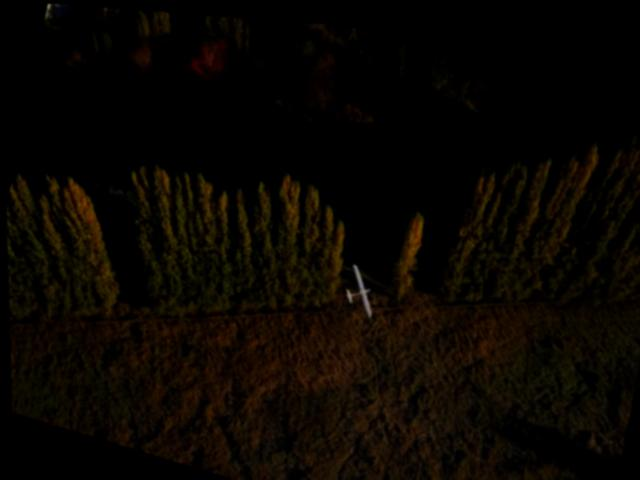uav: (328, 243, 396, 322)
